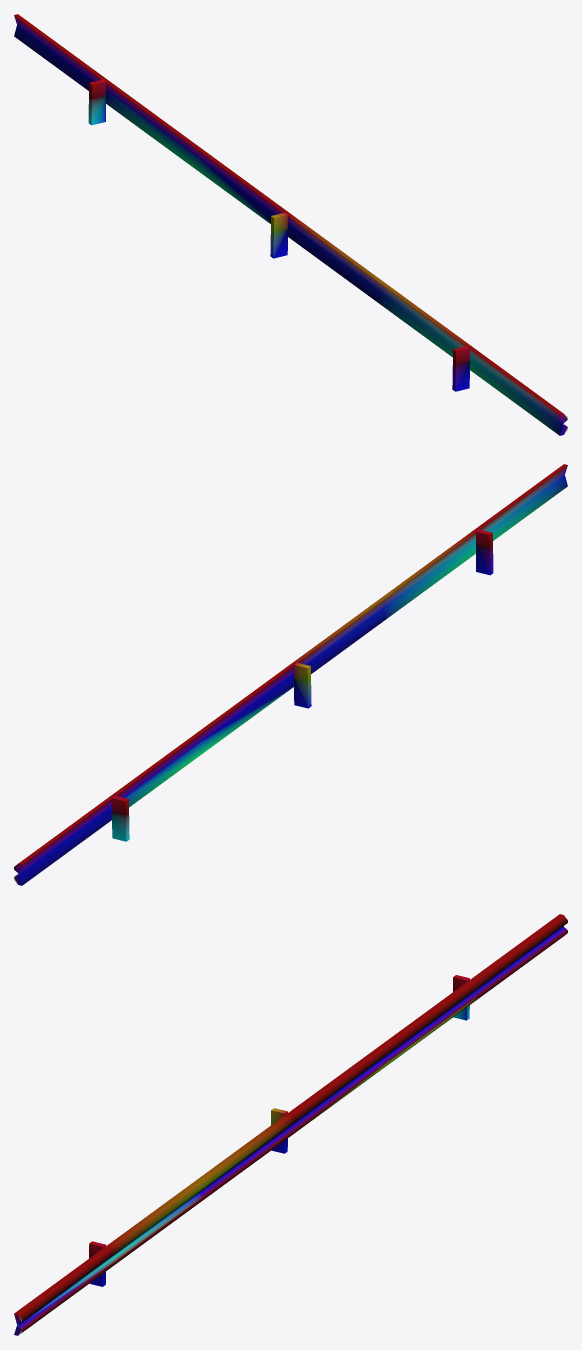
Rendered from Road_Barrier_2Mat.fbx.
3 renders of one model, top to bottom at view 1: azimuth 30°, elevation 25°; view 2: azimuth 150°, elevation 25°; view 3: azimuth 330°, elevation 25°, orthographic.
Visible parts, largest first — view 1: Road_Barrier_2Mat; view 2: Road_Barrier_2Mat; view 3: Road_Barrier_2Mat.
Part boxes in pixels (x1=…): Road_Barrier_2Mat: x1=14, y1=14, x2=567, y2=435; Road_Barrier_2Mat: x1=14, y1=464, x2=567, y2=885; Road_Barrier_2Mat: x1=14, y1=914, x2=567, y2=1335.
Size of the model in its own units: 47.7 by 79.52 by 1956.
